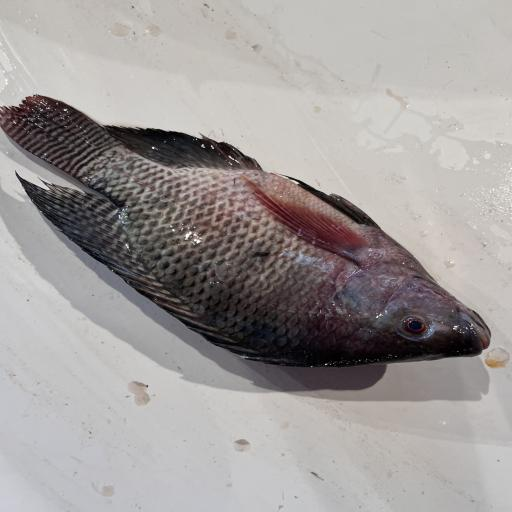Tilapia: (0, 94, 492, 368)
